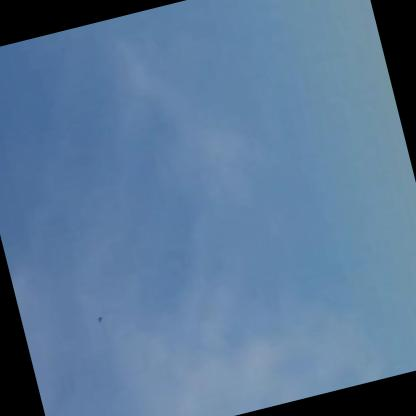plane: (94, 311, 108, 326)
